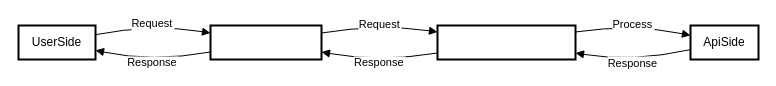
The diagram is 776 pixels wide and 86 high, and some of its shapes have lost their labels. The box of each missing label's shape, as (x1, y1, x2, y2) in pixels:
InternetBankSide: (436, 24, 576, 60)
MerchantSide: (209, 24, 322, 60)
